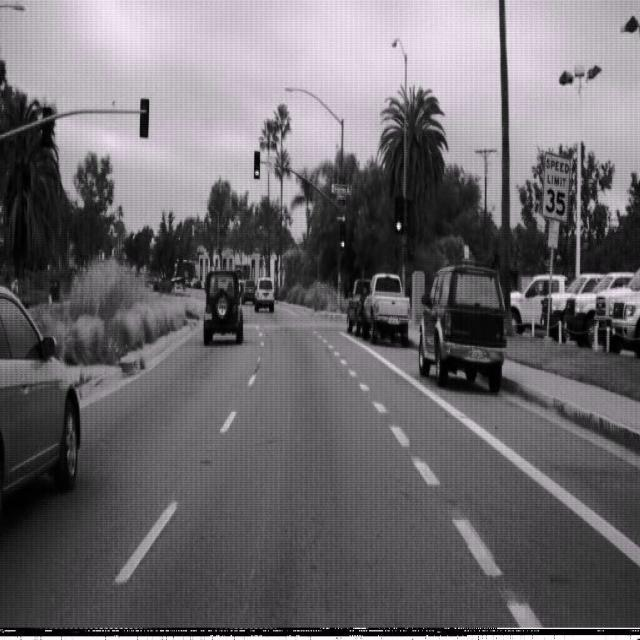speedLimit35: (541, 150, 571, 223)
